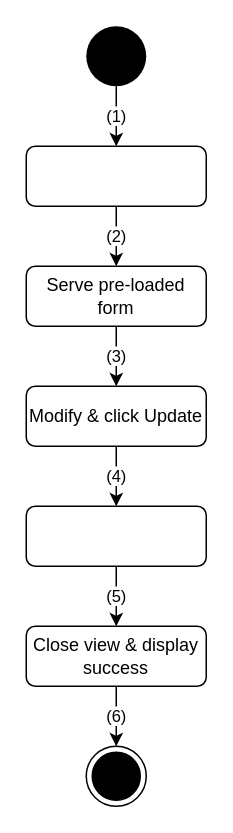
Some shapes in this 233 by 833 pixel diagram are drawn without their labels. The shapes that lost their labels are listed below. From the top down, each one's centre as x and y in pixels, then its label:
point 115,175: Click Edit link
point 115,535: Evaluate & process transaction
